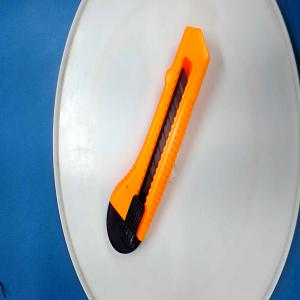estilete: (106, 25, 210, 255)
